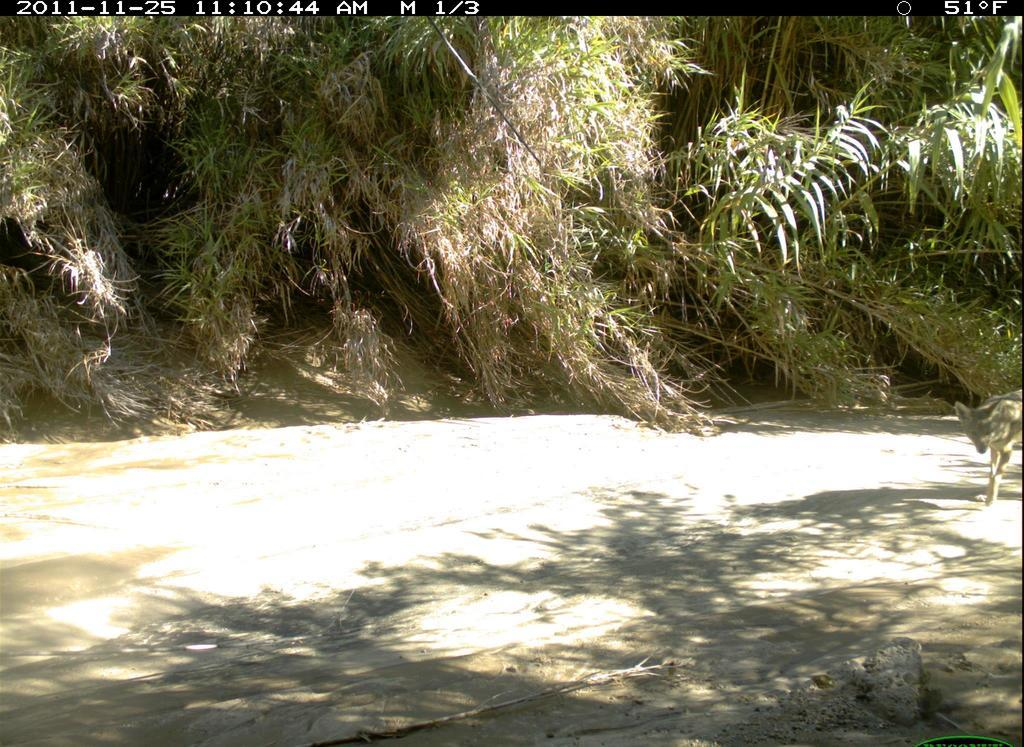coyote: (953, 391, 1023, 506)
